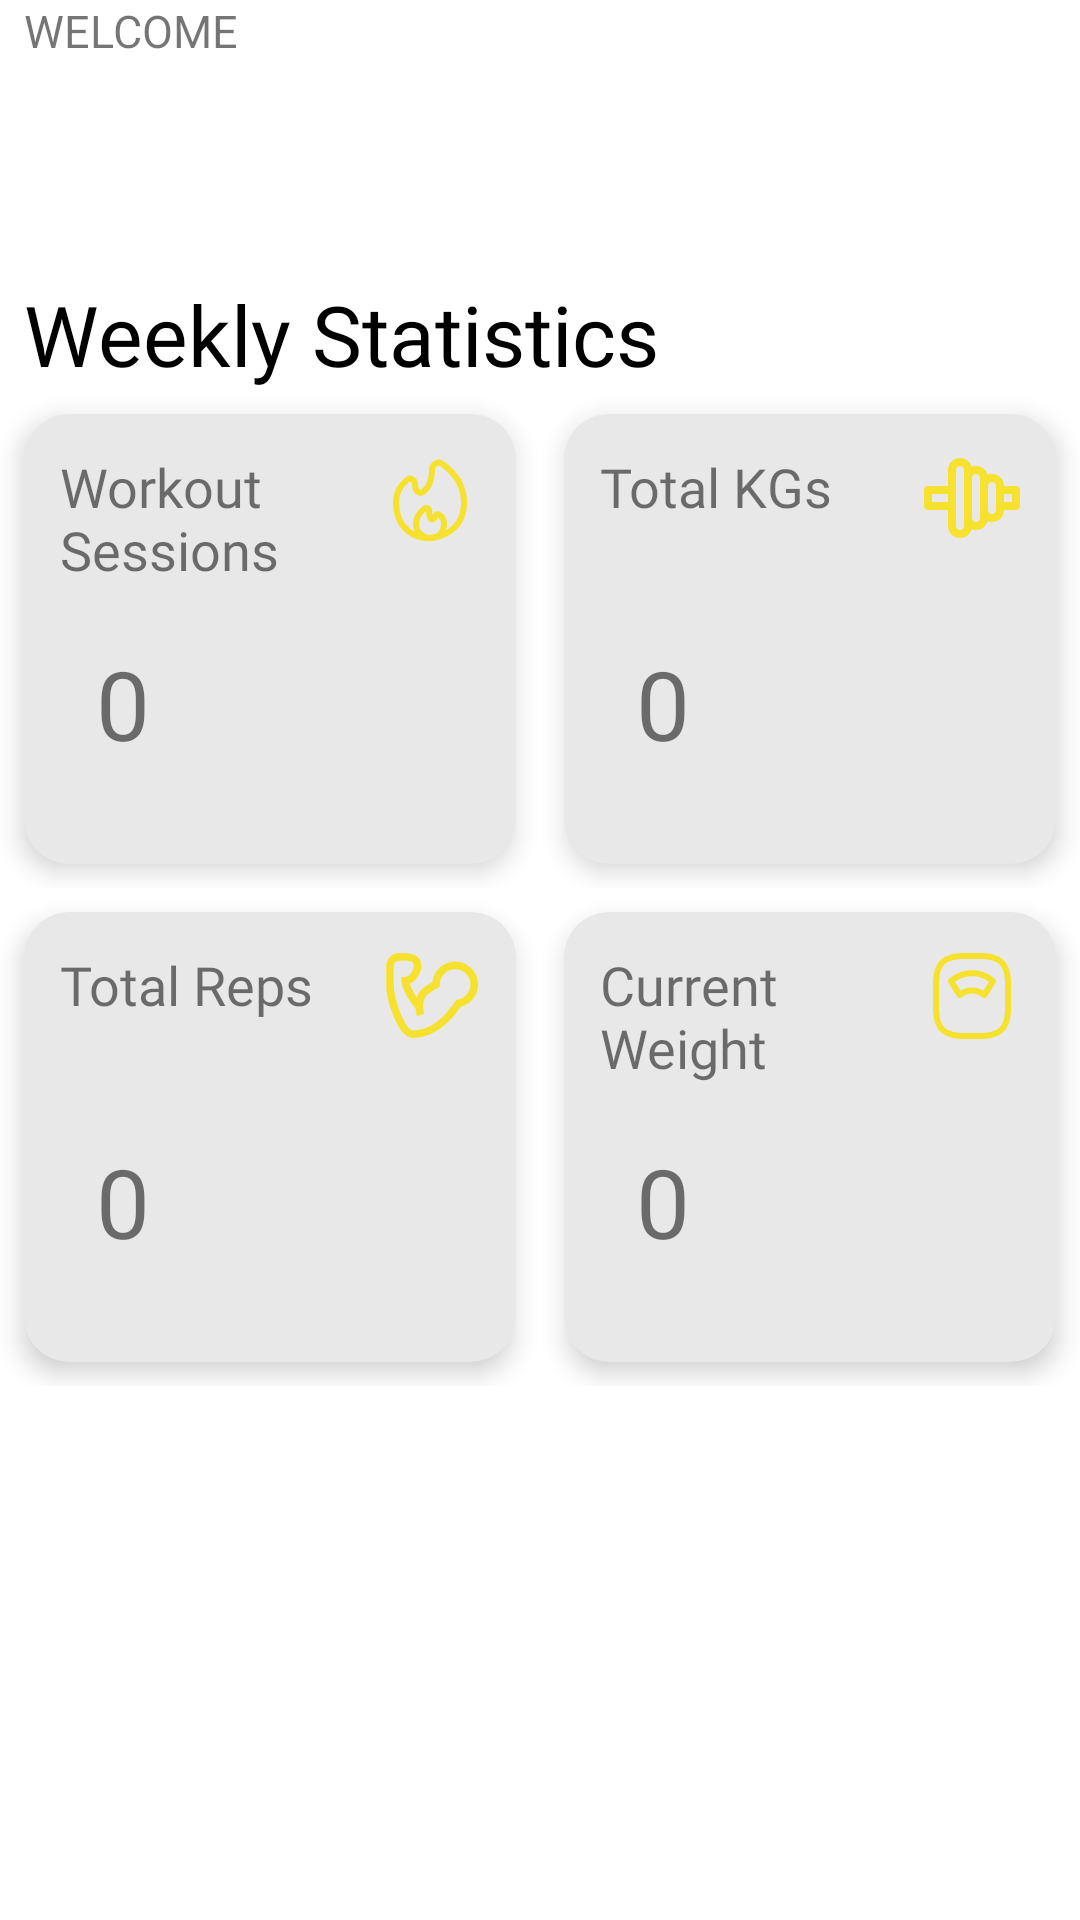

Where icons sit on this 1080×1920 app screen, as {"x1": x1, "y1": y1, "x2": x2, "y2": y2}:
fire: {"x1": 393, "y1": 459, "x2": 467, "y2": 541}
muscle: {"x1": 386, "y1": 953, "x2": 478, "y2": 1038}
